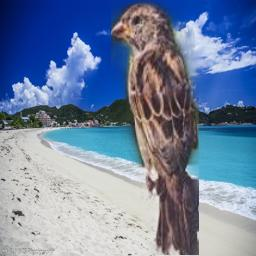Sparrow: (111, 0, 199, 255)
